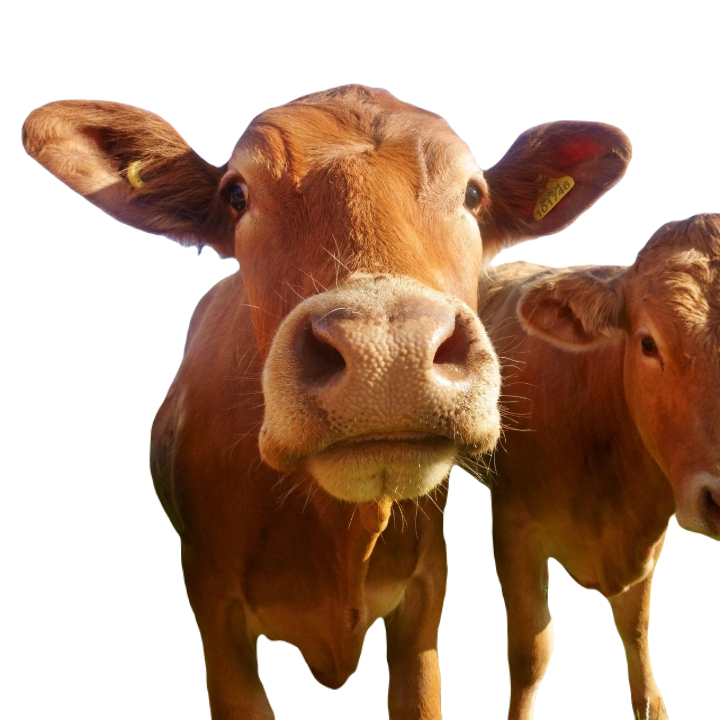Cow: (22, 83, 632, 719)
